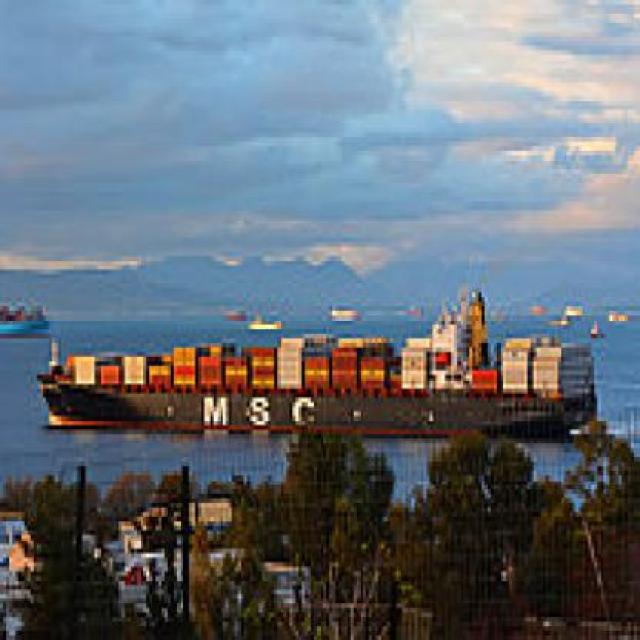container: (31, 270, 614, 458)
